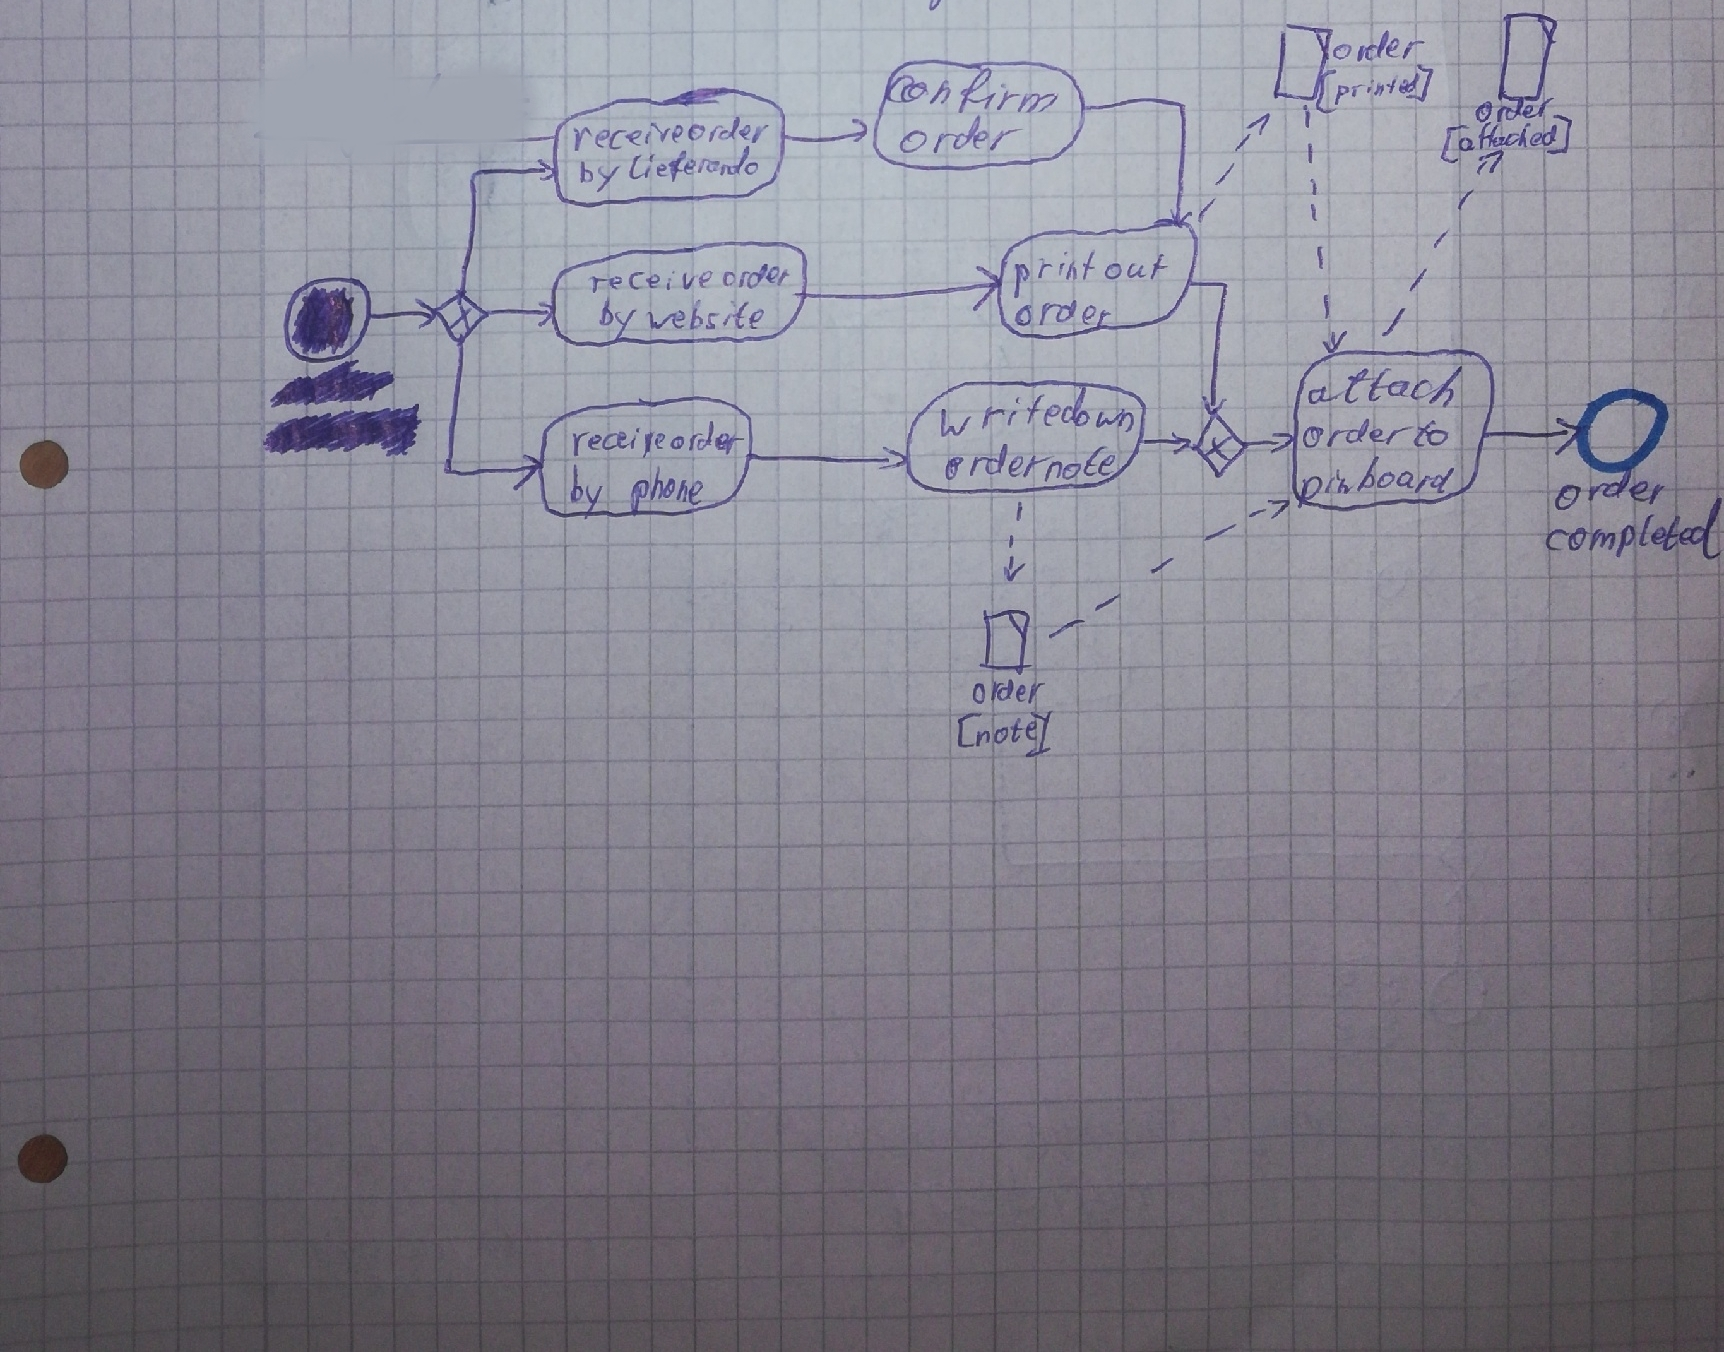Lieferando: (626, 148, 764, 181)
[attached]: (1436, 118, 1576, 162)
[note]: (952, 710, 1052, 757)
[printed]: (1314, 64, 1434, 113)
attach: (1307, 365, 1468, 413)
by: (567, 465, 607, 521), (596, 300, 641, 340), (575, 158, 620, 192)
completed: (1543, 511, 1723, 560)
confirm: (884, 69, 1062, 113)
down: (1059, 388, 1136, 434)
note: (1045, 441, 1117, 487)
order: (1548, 473, 1668, 515), (1299, 417, 1411, 455), (897, 120, 1024, 153), (1010, 295, 1115, 332), (940, 445, 1043, 481), (1328, 29, 1427, 62), (686, 112, 771, 148), (669, 424, 744, 460), (968, 677, 1045, 710), (1476, 95, 1556, 125), (721, 263, 789, 293)
out: (1103, 252, 1170, 288)
phone: (624, 466, 708, 515)
pinboard: (1301, 458, 1460, 502)
print: (1008, 248, 1103, 293)
receive: (589, 266, 716, 297), (567, 125, 687, 155), (568, 425, 665, 459)
to: (1411, 417, 1450, 453)
website: (644, 300, 765, 335)
write: (933, 392, 1059, 438)
